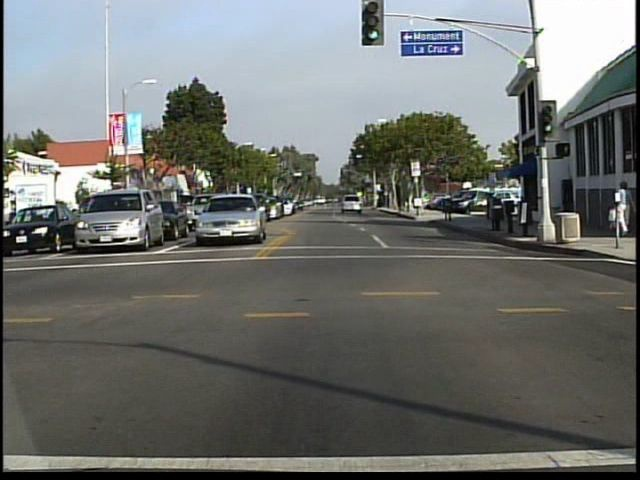person: (611, 176, 638, 242)
